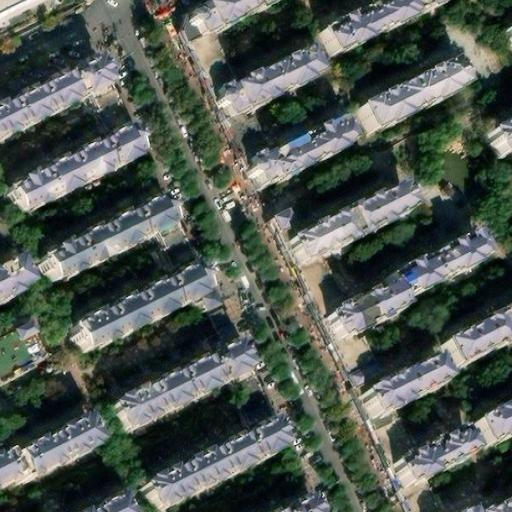building: (43, 194, 184, 289), (76, 265, 217, 360), (116, 345, 257, 440), (151, 418, 292, 512), (178, 24, 274, 162), (11, 128, 148, 222), (286, 182, 417, 269), (0, 57, 120, 148), (211, 44, 323, 126), (356, 57, 467, 135), (244, 115, 353, 192), (0, 418, 108, 492), (389, 232, 486, 301), (361, 357, 447, 420), (324, 282, 407, 345), (437, 307, 512, 374), (393, 429, 473, 488), (0, 319, 50, 385), (300, 256, 349, 317), (339, 333, 387, 394), (374, 408, 418, 463), (470, 401, 512, 453), (200, 297, 244, 346), (68, 484, 140, 512), (244, 489, 327, 512), (405, 475, 447, 512), (0, 259, 30, 308), (273, 206, 306, 241), (487, 120, 512, 161), (479, 494, 512, 512)
